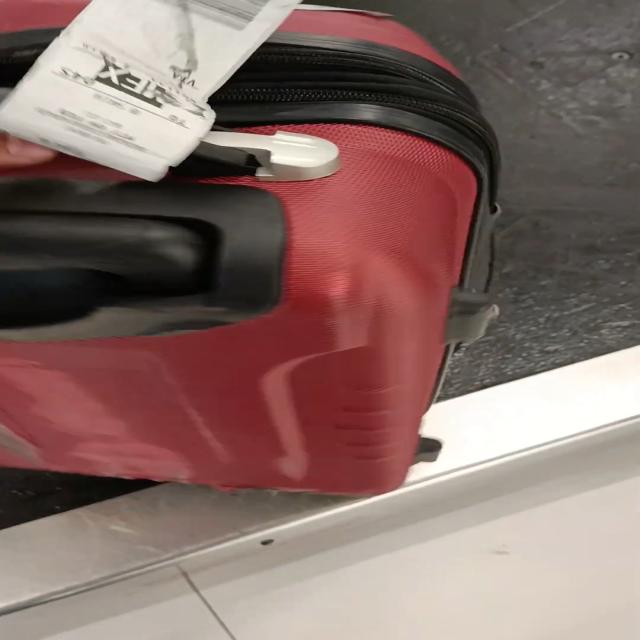Damage-bag: (220, 147, 271, 170)
